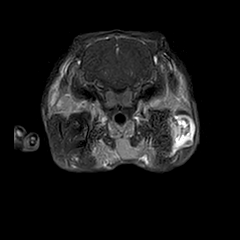Brain: (68, 4, 167, 102)
